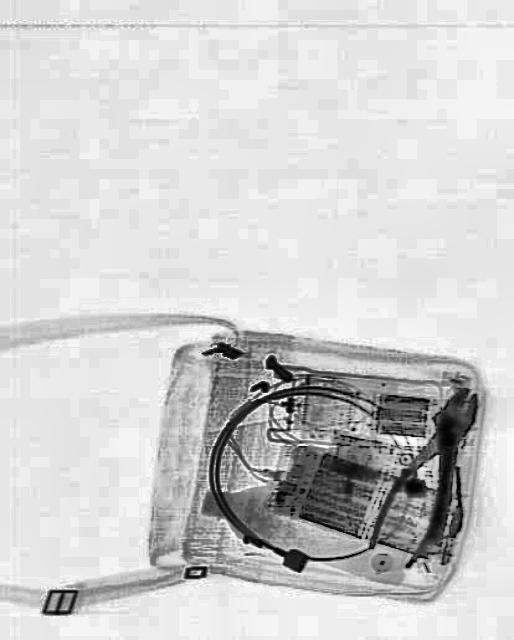Pliers: (362, 372, 498, 576)
